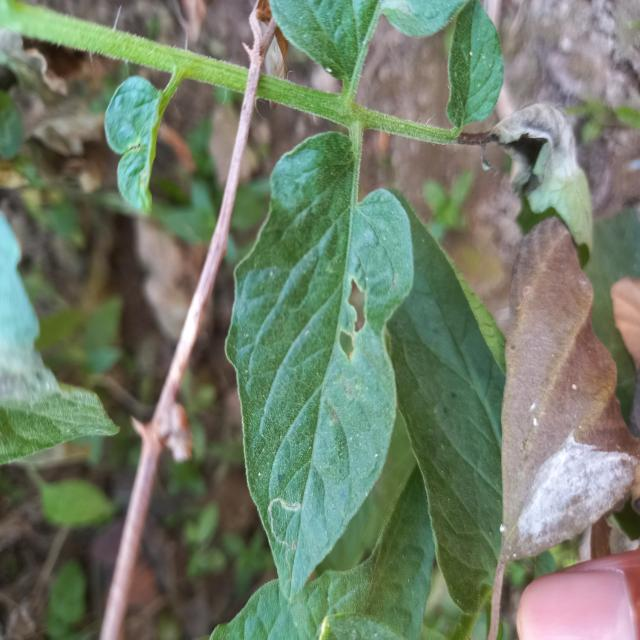Tuta absoluta: (258, 494, 302, 547), (286, 543, 296, 552)
